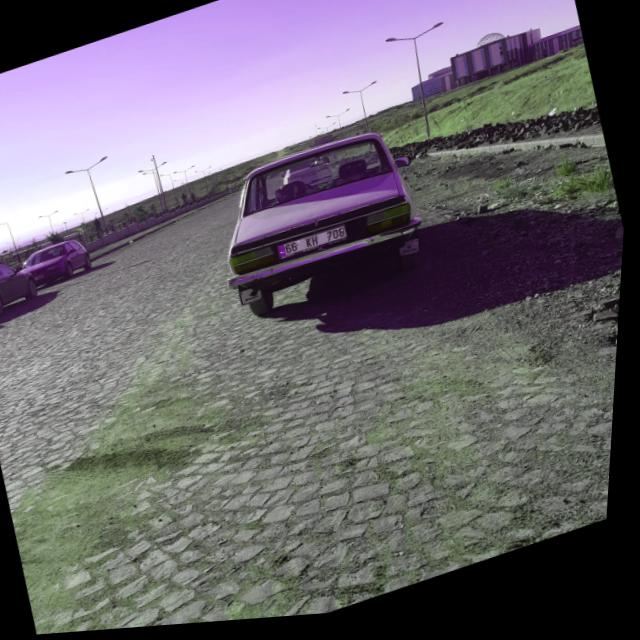license_plate: (279, 229, 351, 264)
